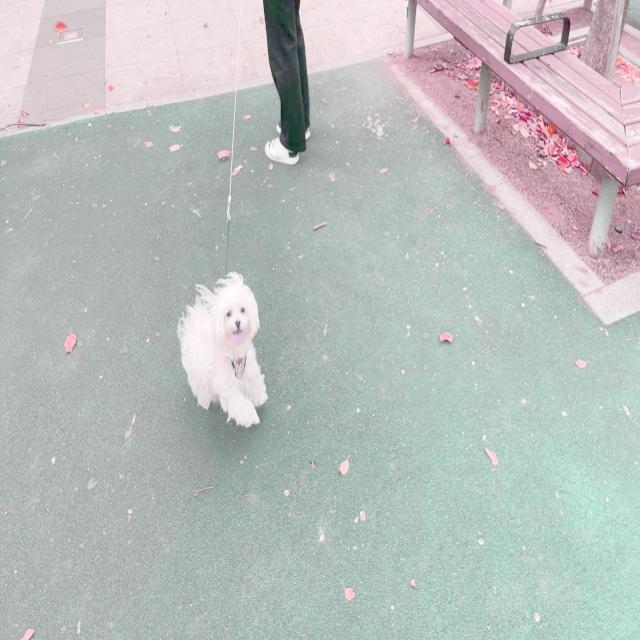Leashed_Dog: (178, 0, 296, 427)
